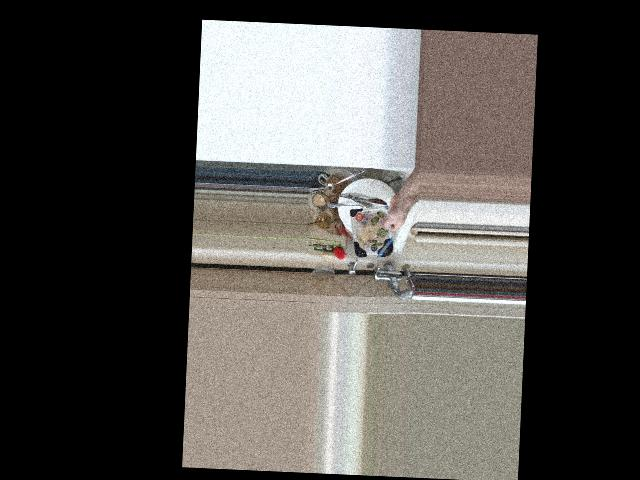cheese: (349, 196, 408, 262)
